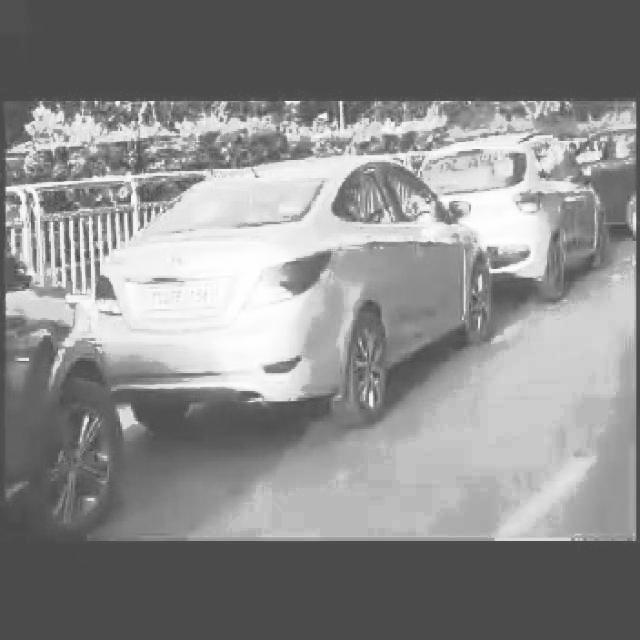Car: (129, 162, 461, 438), (489, 136, 580, 294), (589, 125, 640, 231)
